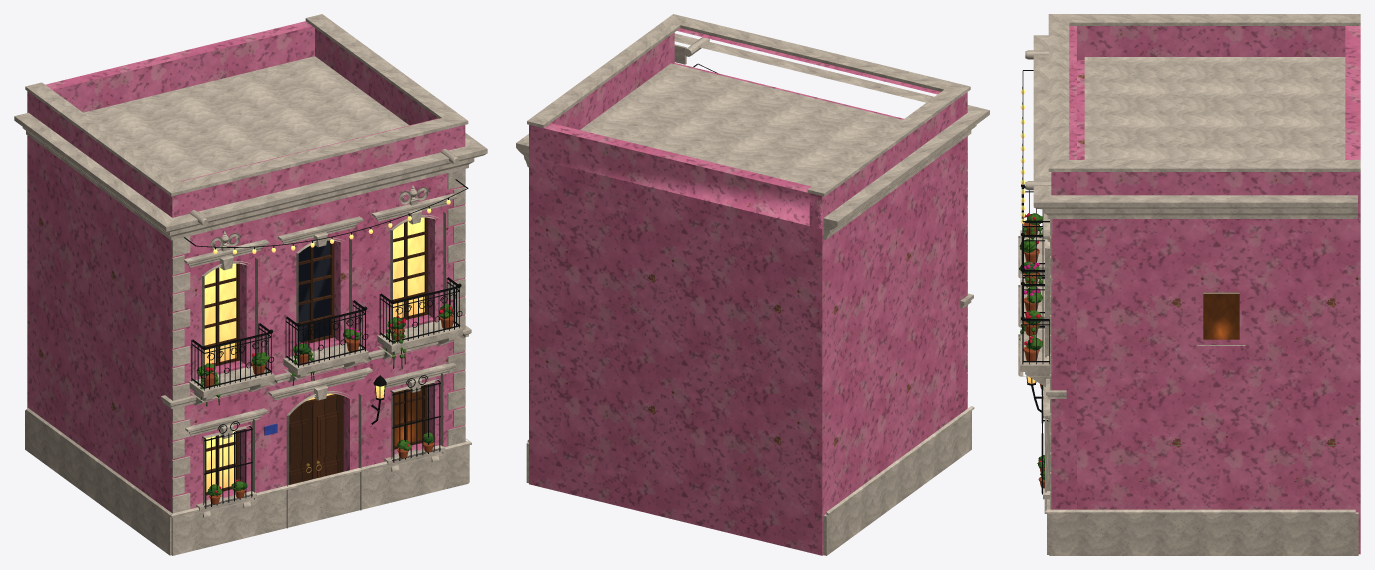
Rendered from w3_bg_casa_a.glb.
3 renders of one model, left to right at view 1: azimuth 30°, elevation 25°; view 2: azimuth 150°, elevation 25°; view 3: azimuth 270°, elevation 25°, orthographic. The views are drawn at different scales.
Visible parts, largest first — view 1: w3_bg_casa_a; view 2: w3_bg_casa_a; view 3: w3_bg_casa_a.
Boxes of the visible parts, x1=… form: w3_bg_casa_a: x1=14, y1=14, x2=487, y2=555; w3_bg_casa_a: x1=516, y1=14, x2=989, y2=555; w3_bg_casa_a: x1=1018, y1=14, x2=1360, y2=555.
Bounding box in the file's own units: 7.68 × 8.27 × 6.64.
Materials: 5 (5 with a texture image).
